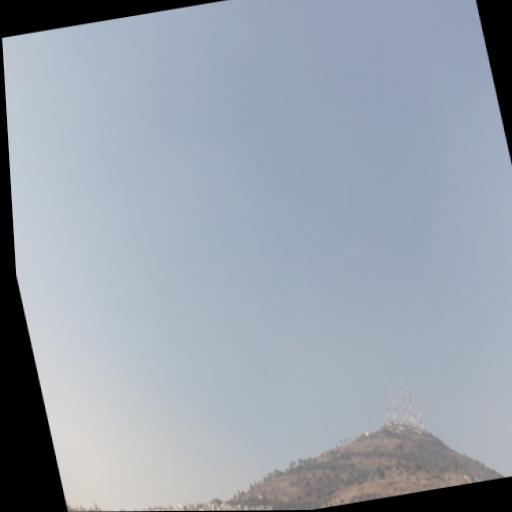drones: (349, 475, 355, 480)
